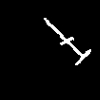double_crochet: (44, 18, 90, 64)
